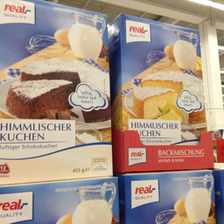cake: (1, 2, 112, 184), (115, 4, 217, 171)
